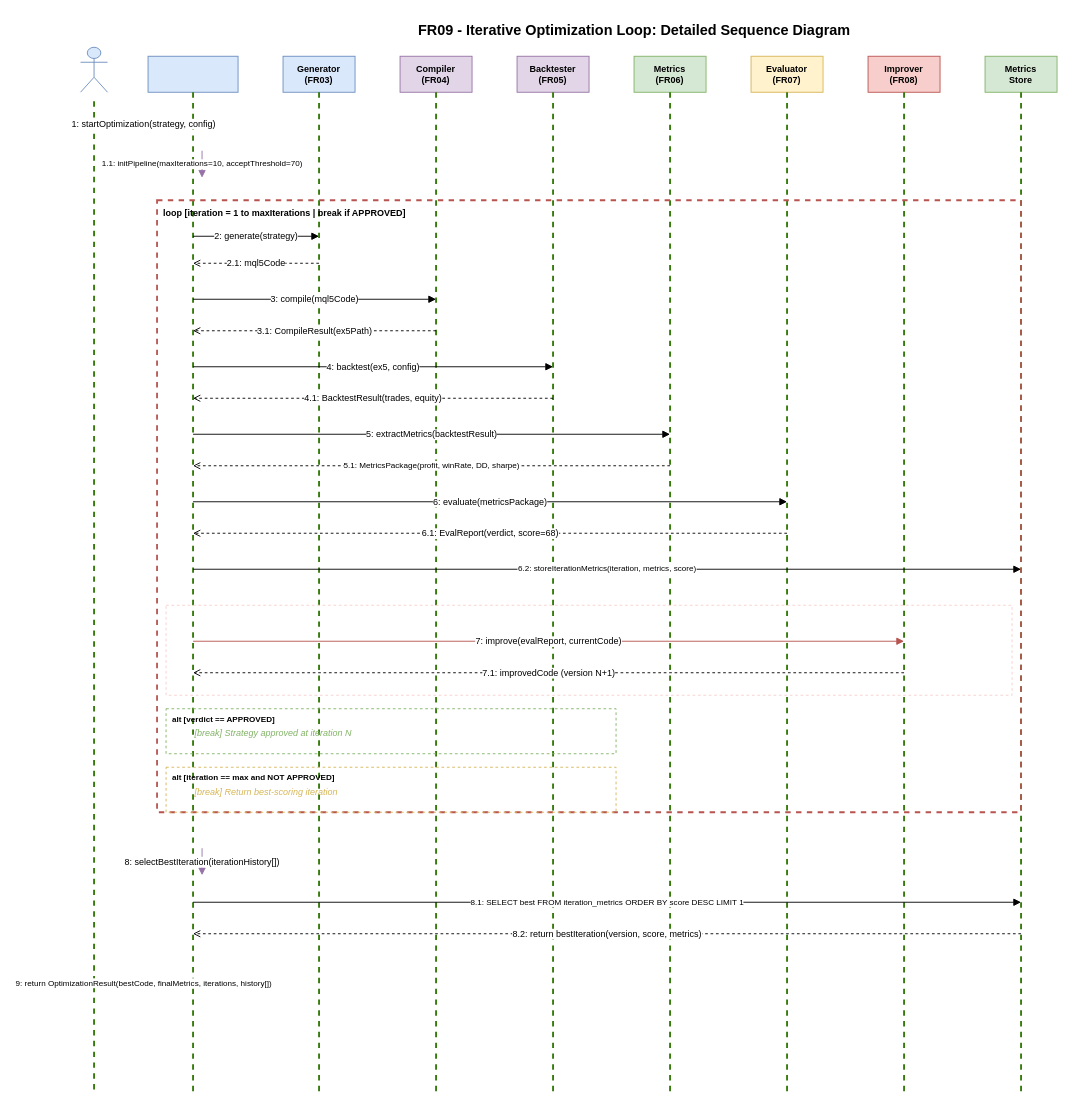
Image size: 1073x1108. Some labels were removed from this diagram. Here are the shapes that lost their labels. From the top down, the centre of each, then its label:
At (x=94, y=69): "Trader".
At (x=192, y=73): "Orchestrator (Pipeline)".
At (x=588, y=649): "alt [verdict == NEEDS_IMPROVEMENT and iteration < max]".
